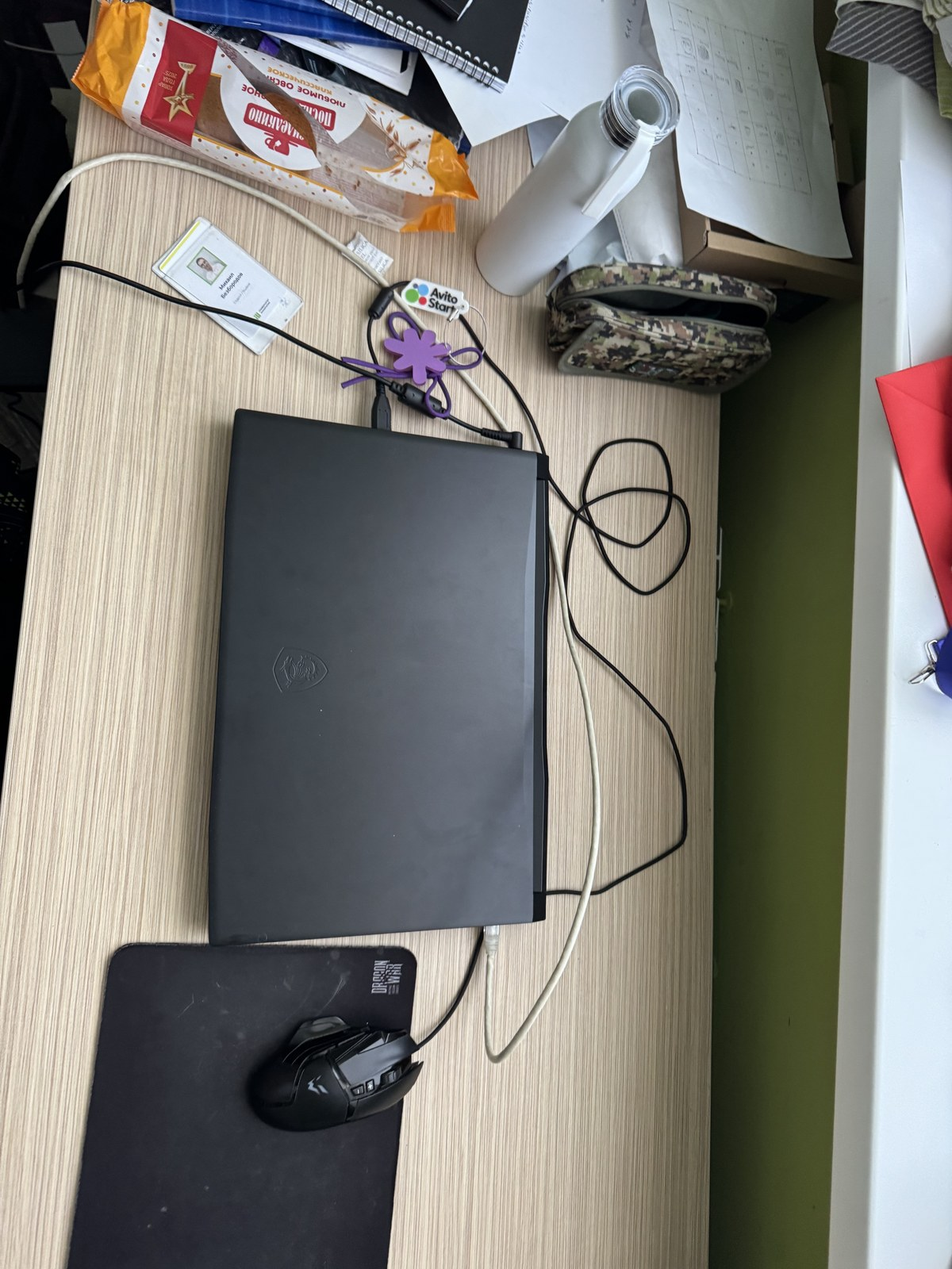laptop: (206, 407, 550, 945)
